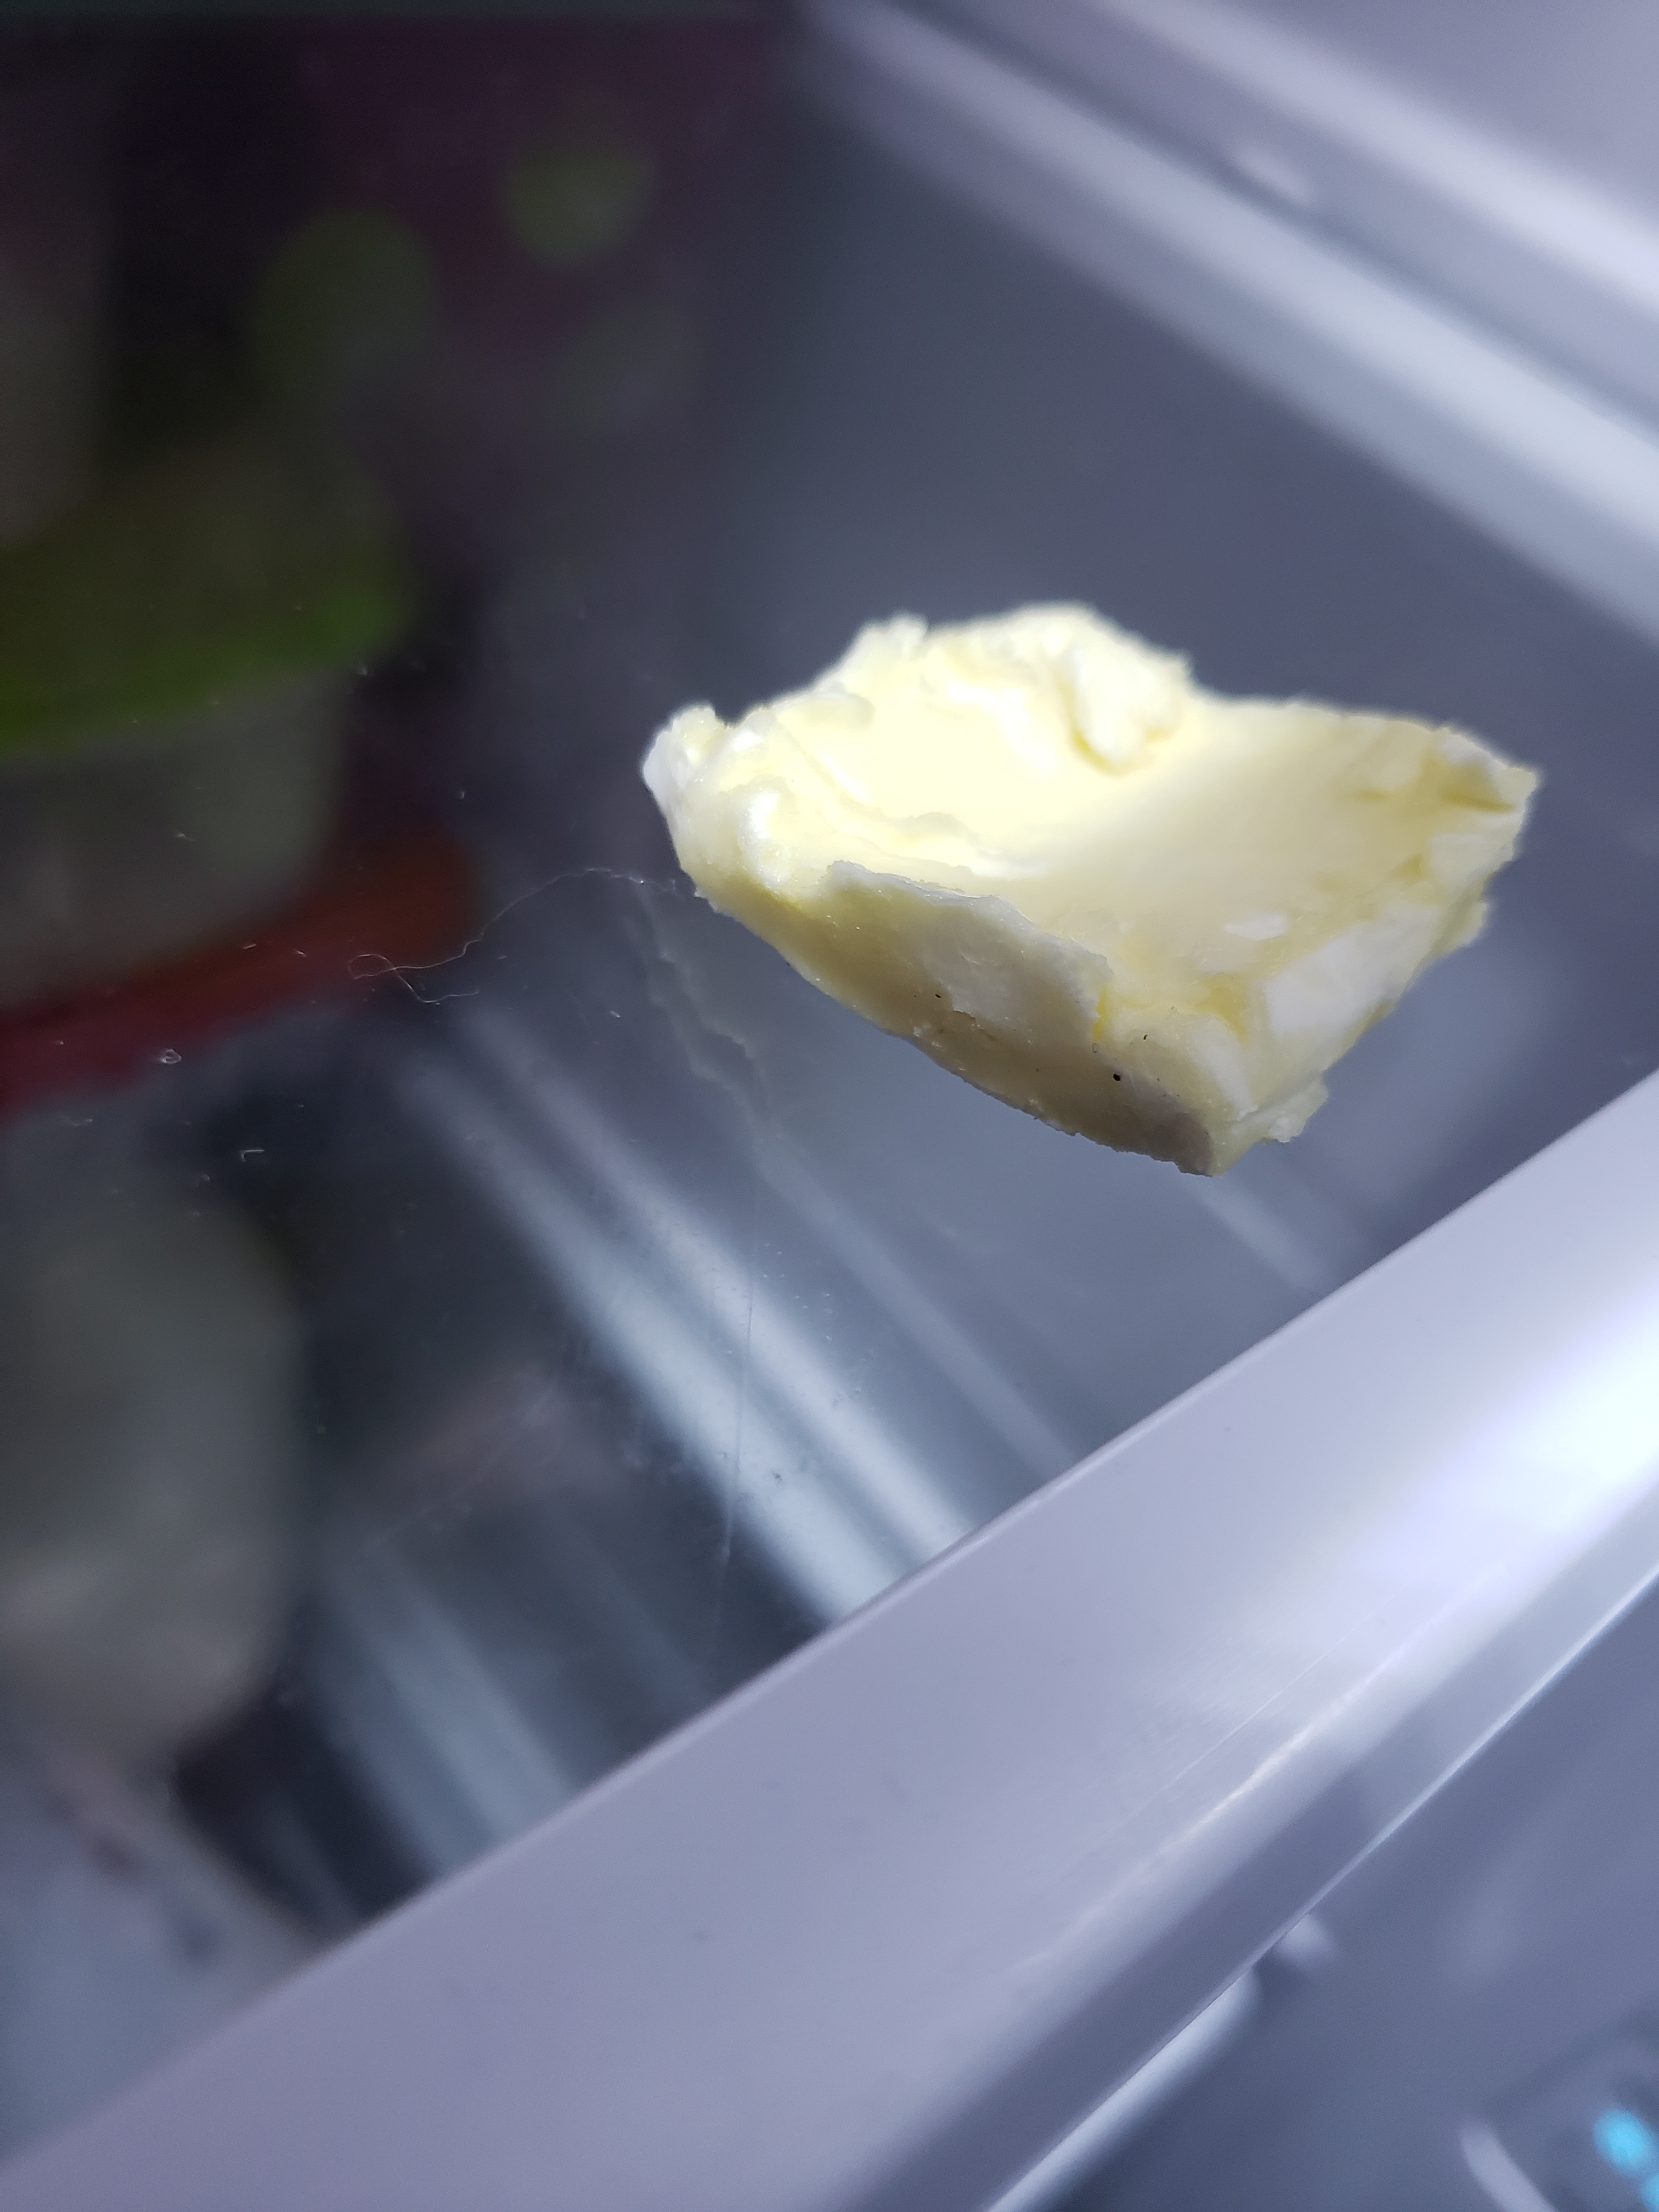Butter: (652, 601, 1520, 1157)
